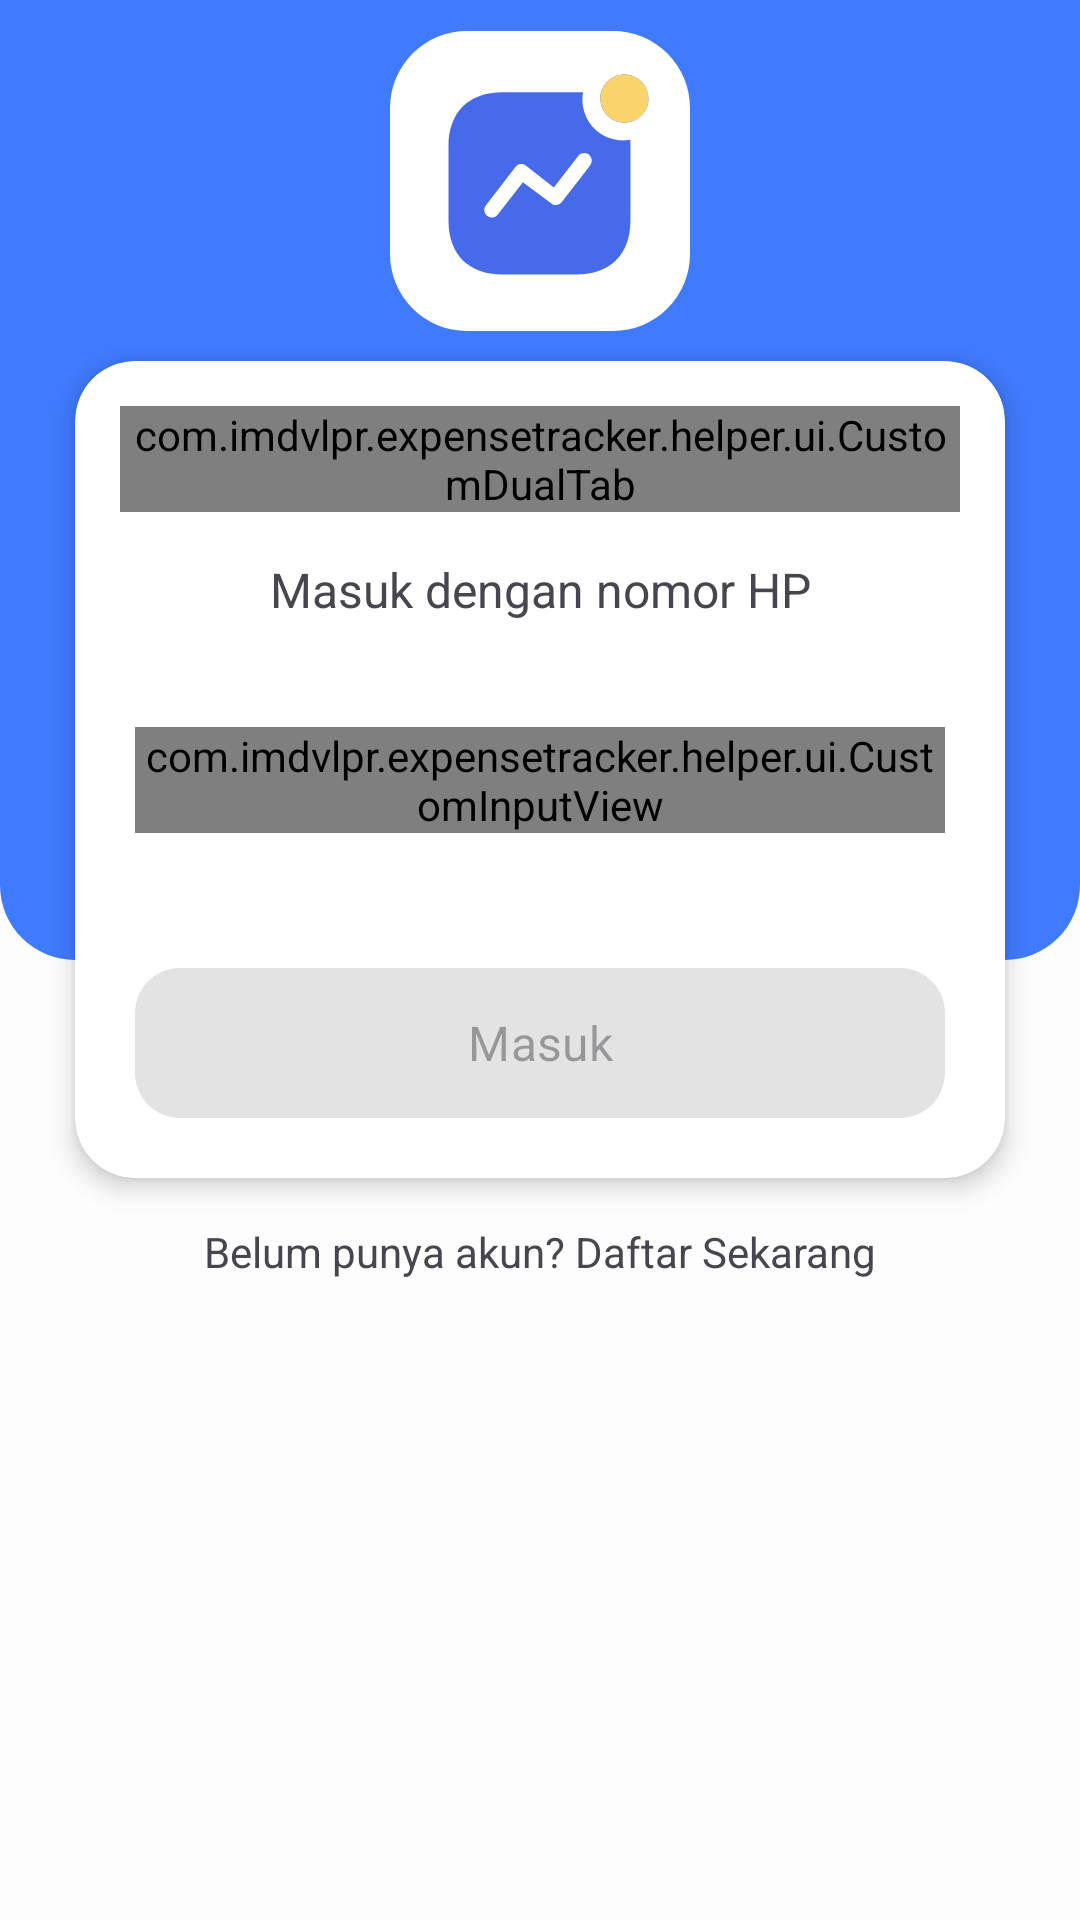

Named icons in this screenshot (1080w x 1920h) and their centers, (x=x, y=y):
app: (x=540, y=181)
